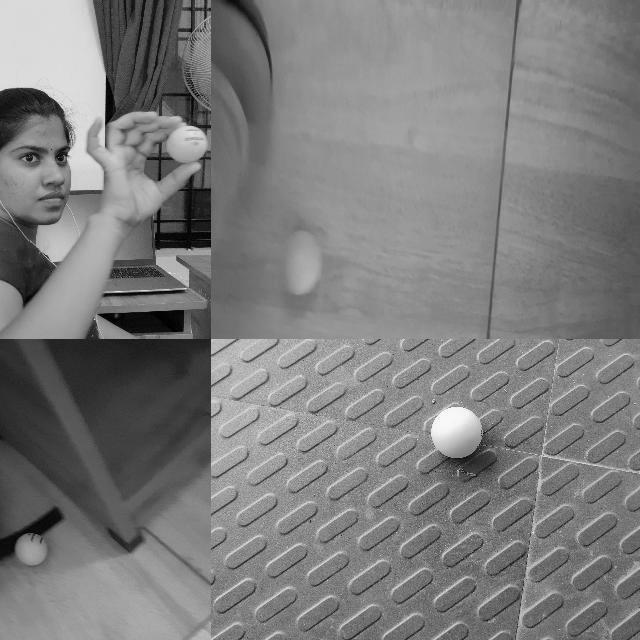ping-pong-ball: (432, 406, 483, 458), (280, 230, 320, 296), (167, 126, 207, 162), (16, 532, 46, 562)
